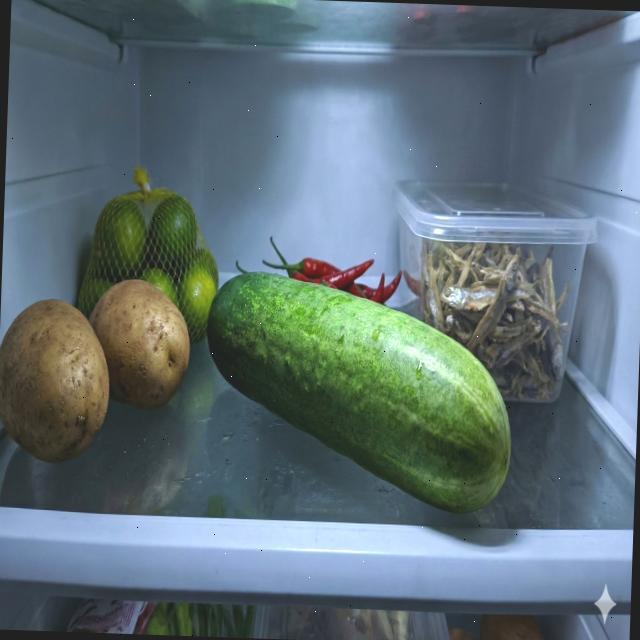anchovies: (411, 232, 573, 404)
chili: (234, 231, 403, 306)
cucumber: (199, 266, 515, 518)
lime: (76, 188, 222, 348)
potato: (0, 270, 193, 469)
